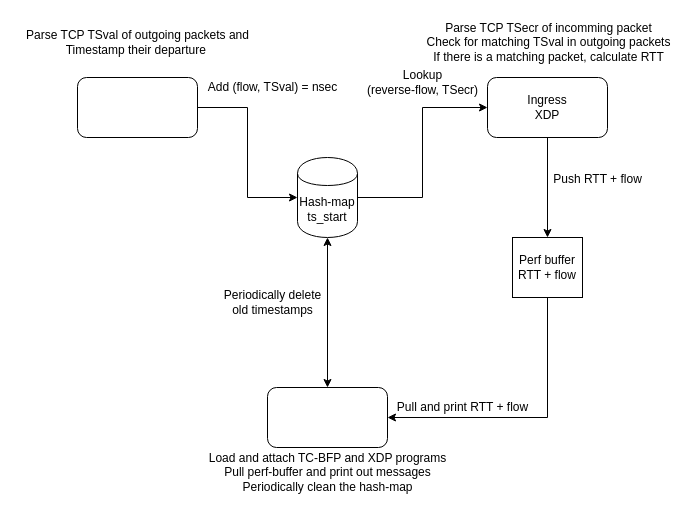
Some shapes in this 695 by 514 pixel diagram are drawn without their labels. The shapes that lost their labels are listed below. From the top down, each one's centre as x and y in pixels, then its label:
At point (137, 107): "Egress TC-BPF".
At point (327, 417): "Userspace pping".
